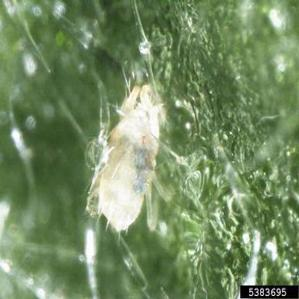spider mite: (64, 61, 195, 248)
